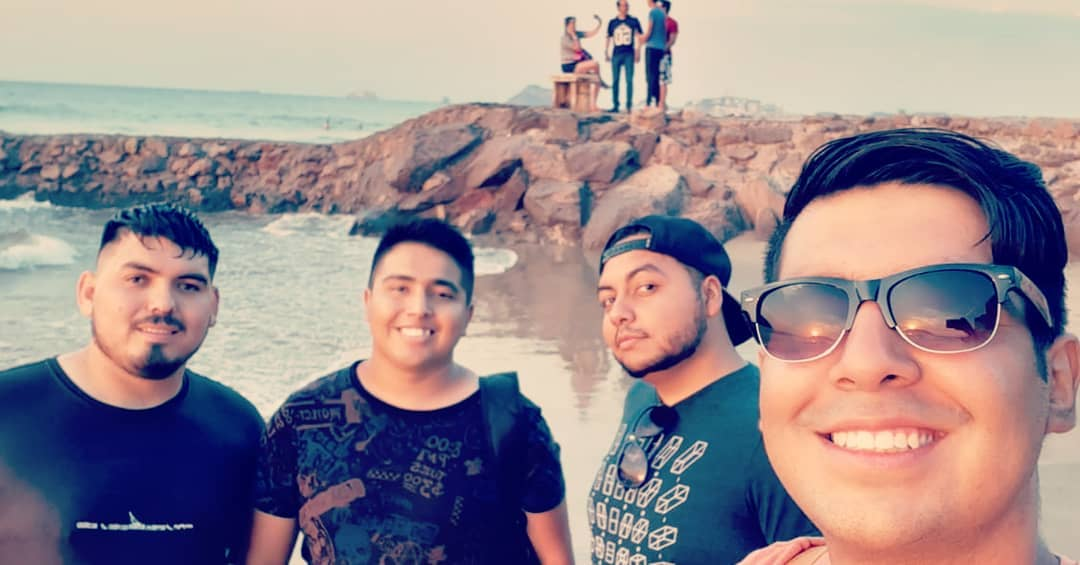Yoshi: (566, 183, 757, 524)
